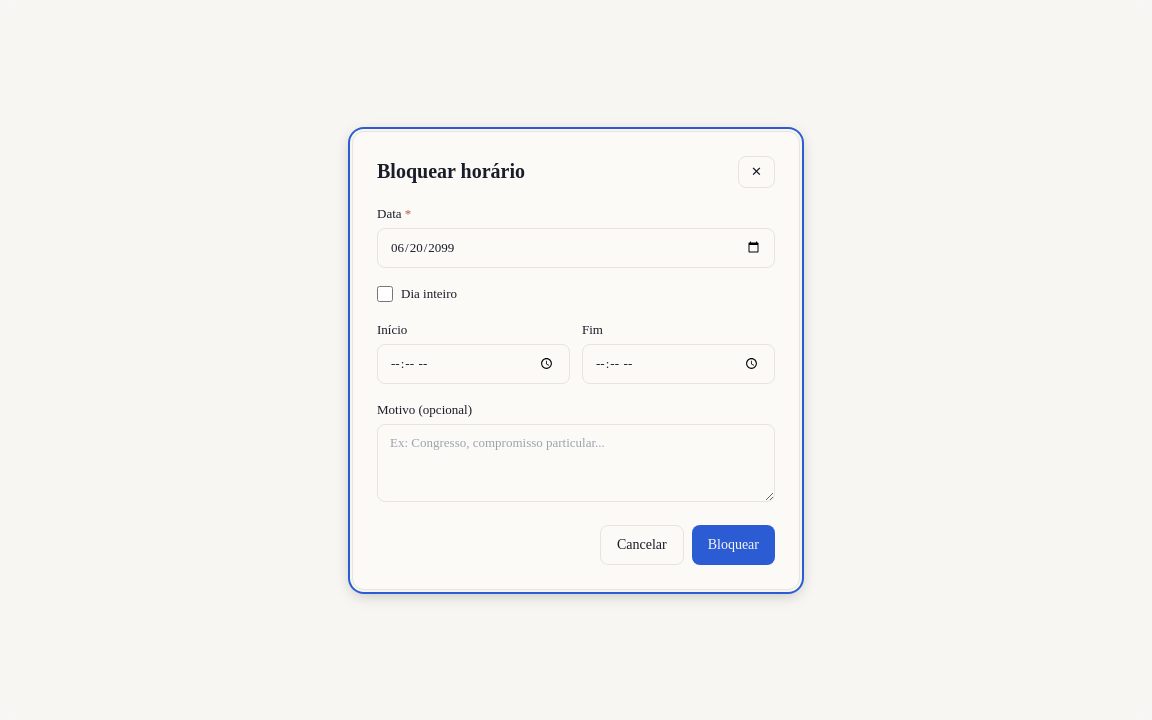
Test: BlockTimeDialog (integration) › enables startTime and endTime when "Dia inteiro" is unchecked
Click the checkbox with test id "block-dialog-all-day" at (385, 294), box [377,286,393,302]
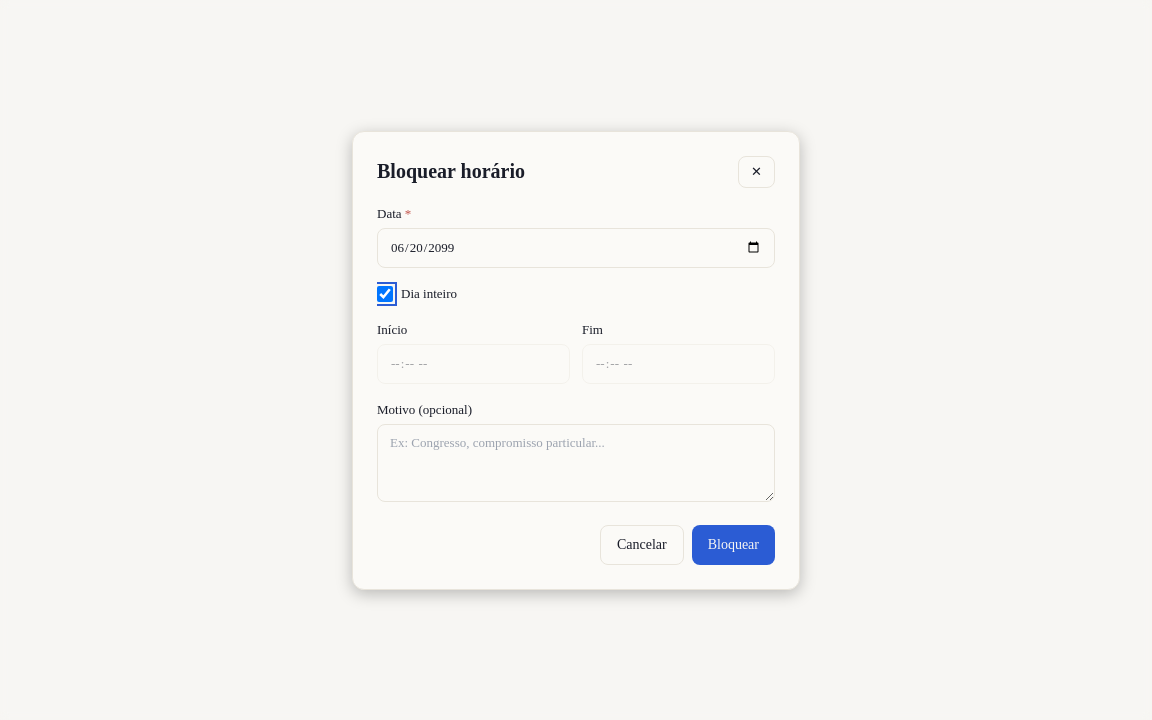
Click the checkbox with test id "block-dialog-all-day" at (385, 294), box [377,286,393,302]
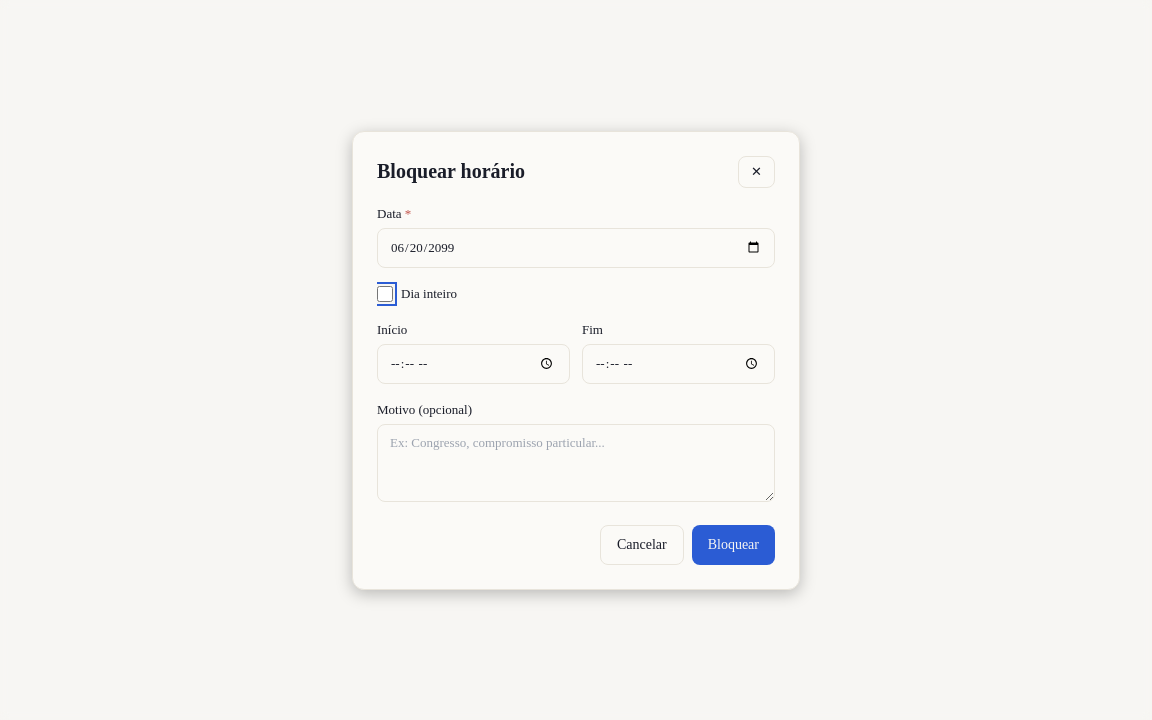
Check: the time field with test id "block-dialog-start-time" is enabled, box [377,344,570,384]
Check: the time field with test id "block-dialog-end-time" is enabled, box [582,344,775,384]
